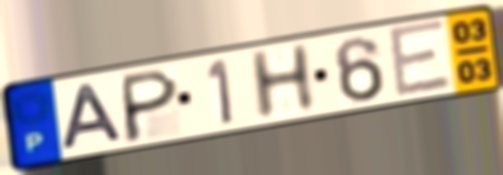1: (204, 56, 237, 128)
6: (331, 34, 387, 104)
A: (60, 80, 127, 153)
E: (384, 17, 455, 102)
H: (245, 40, 320, 124)
P: (121, 66, 182, 145)
